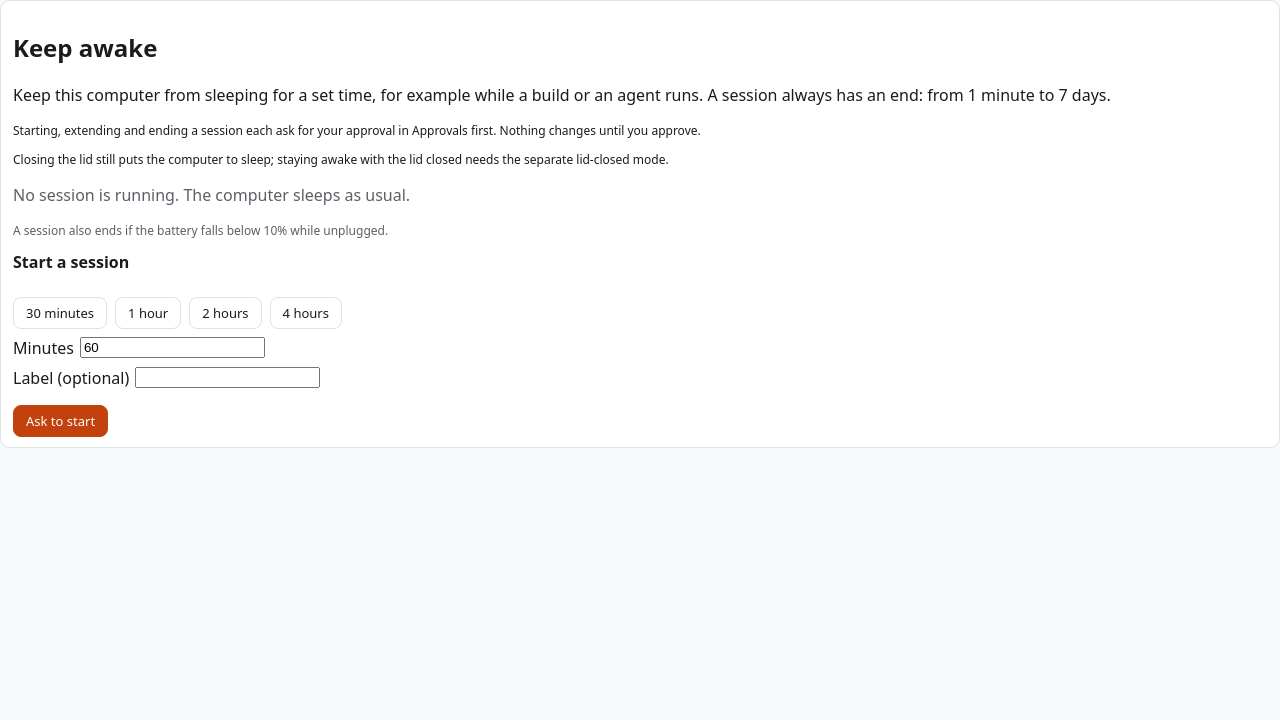
Test: Keep awake settings: starting › reports the emergency stop, an expired request and any other failure in their own words
The image size is (1280, 720).
Replace the text in the field labelled "Minutes" with "30" at (172, 348), box [80, 337, 265, 358]
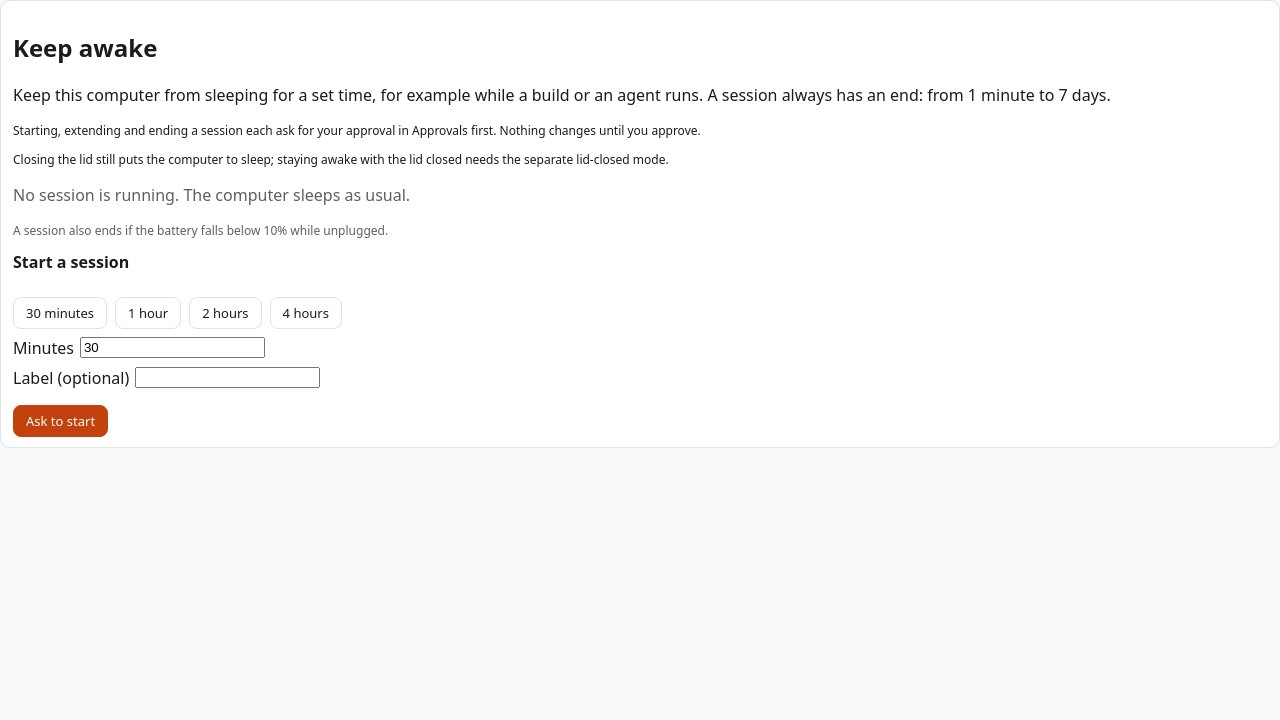
Click the button "Ask to start" at (61, 421), box [13, 405, 108, 437]
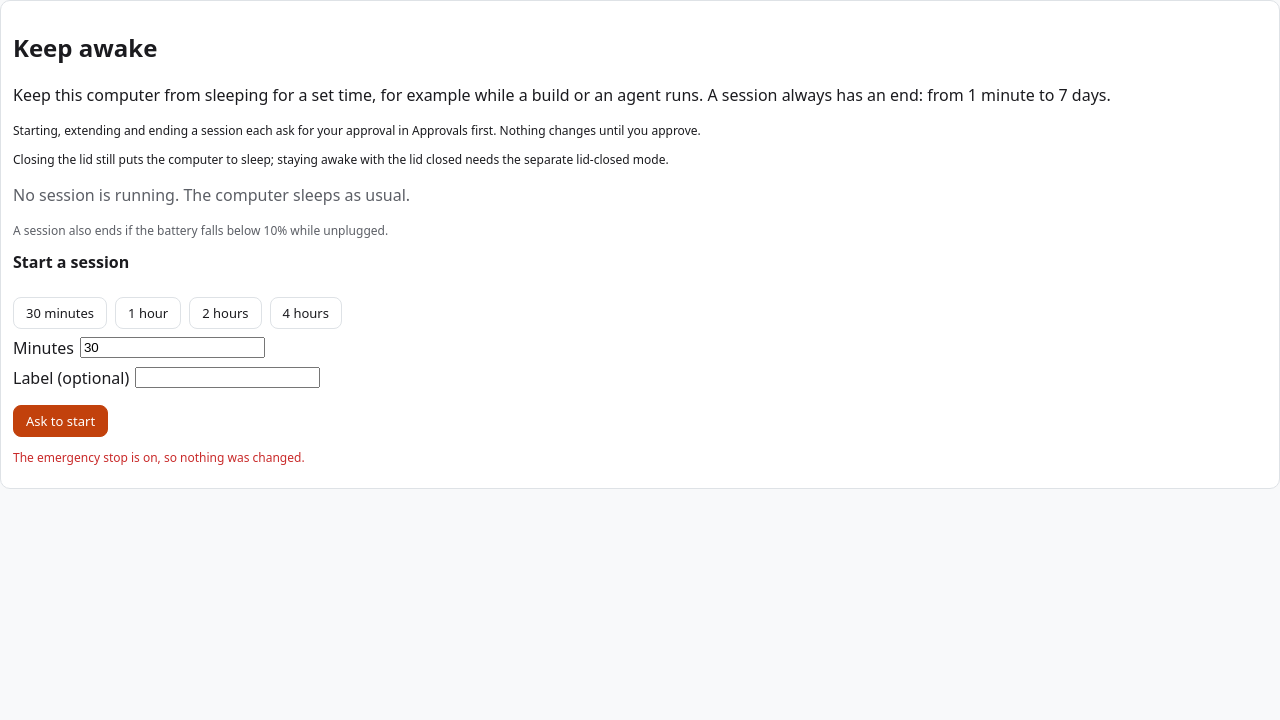
Check: the message "The emergency stop is on, so nothing was changed." is shown, box [13, 449, 305, 466]
Click the button "Ask to start" at (61, 421), box [13, 405, 108, 437]
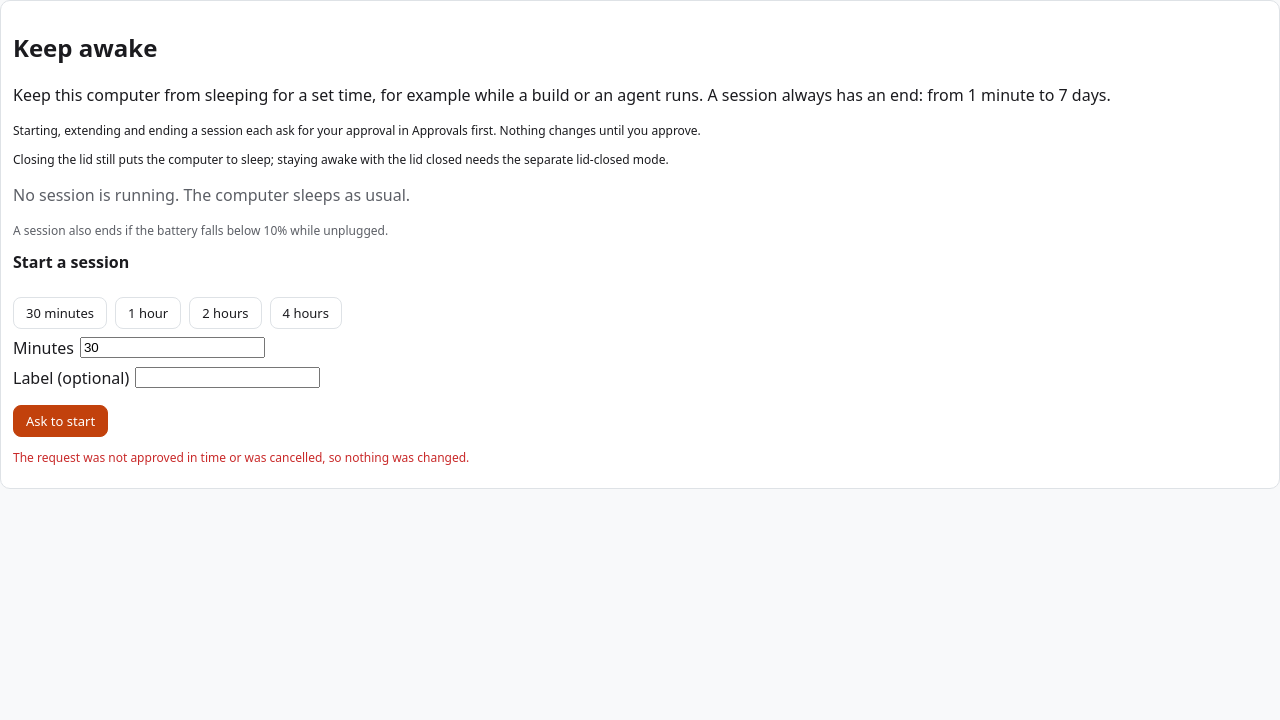
Check: the message "The request was not approved in time or was cancelled, so nothing was changed." is shown, box [13, 449, 469, 466]
Click the button "Ask to start" at (61, 421), box [13, 405, 108, 437]
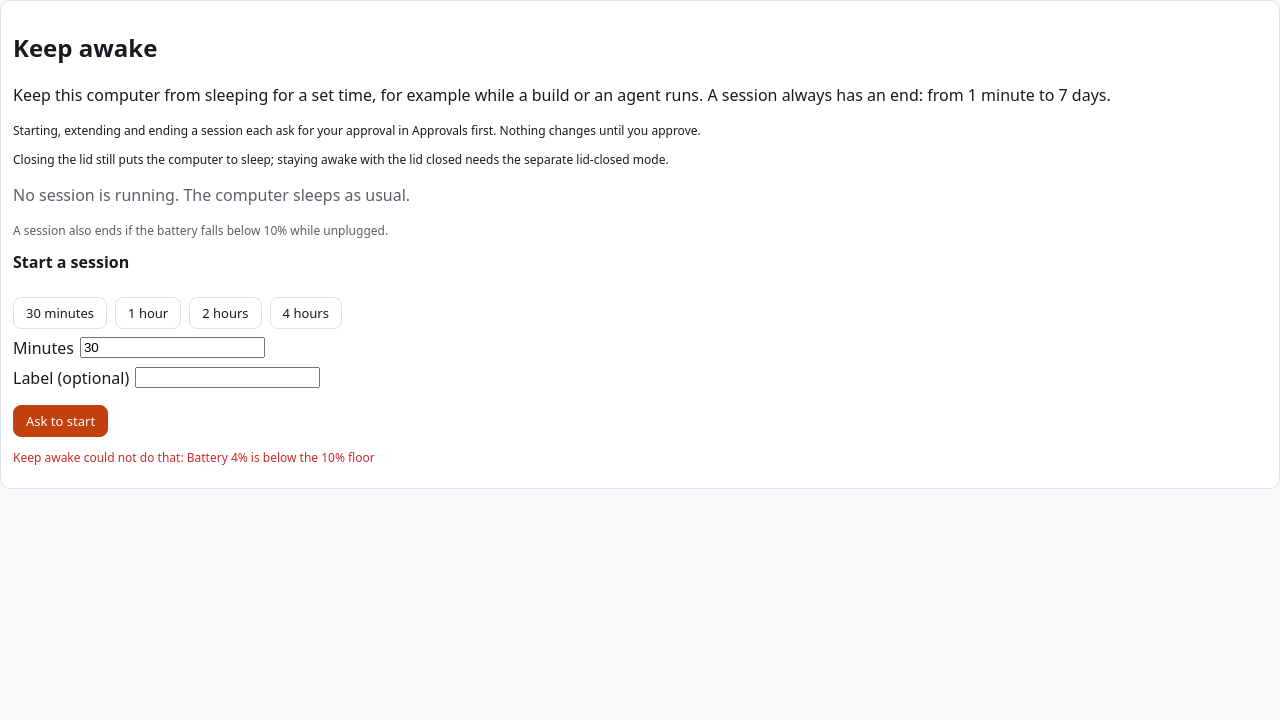
Check: the message "Keep awake could not do that: Battery 4% is below the 10% floor" is shown, box [13, 449, 375, 466]
